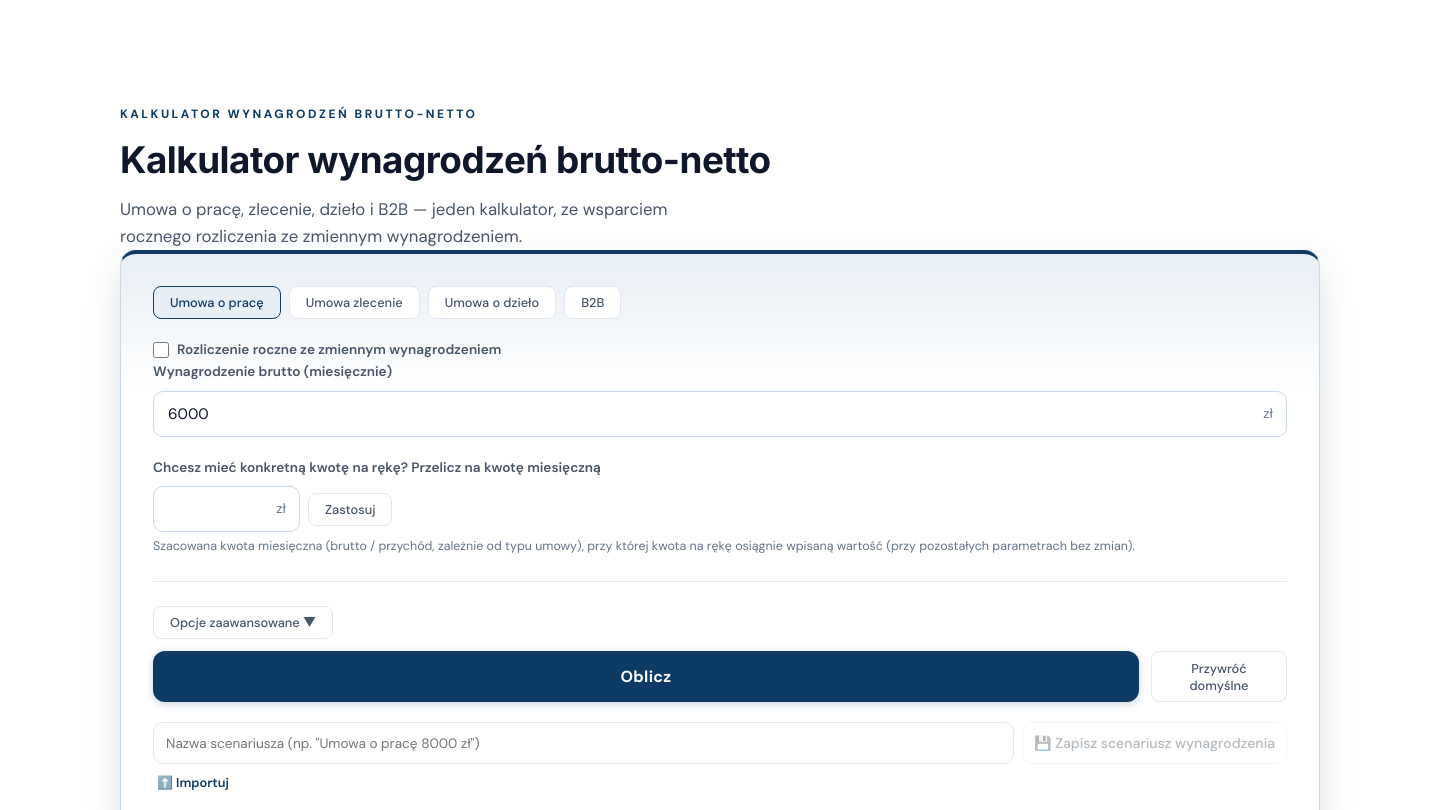
Test: SalaryCalculator hourly-rate helper (render) › the "Zastosuj" button stays disabled until both rate and hours are entered
Click the button "Umowa zlecenie".
click(354, 303)  # box [289, 286, 420, 319]
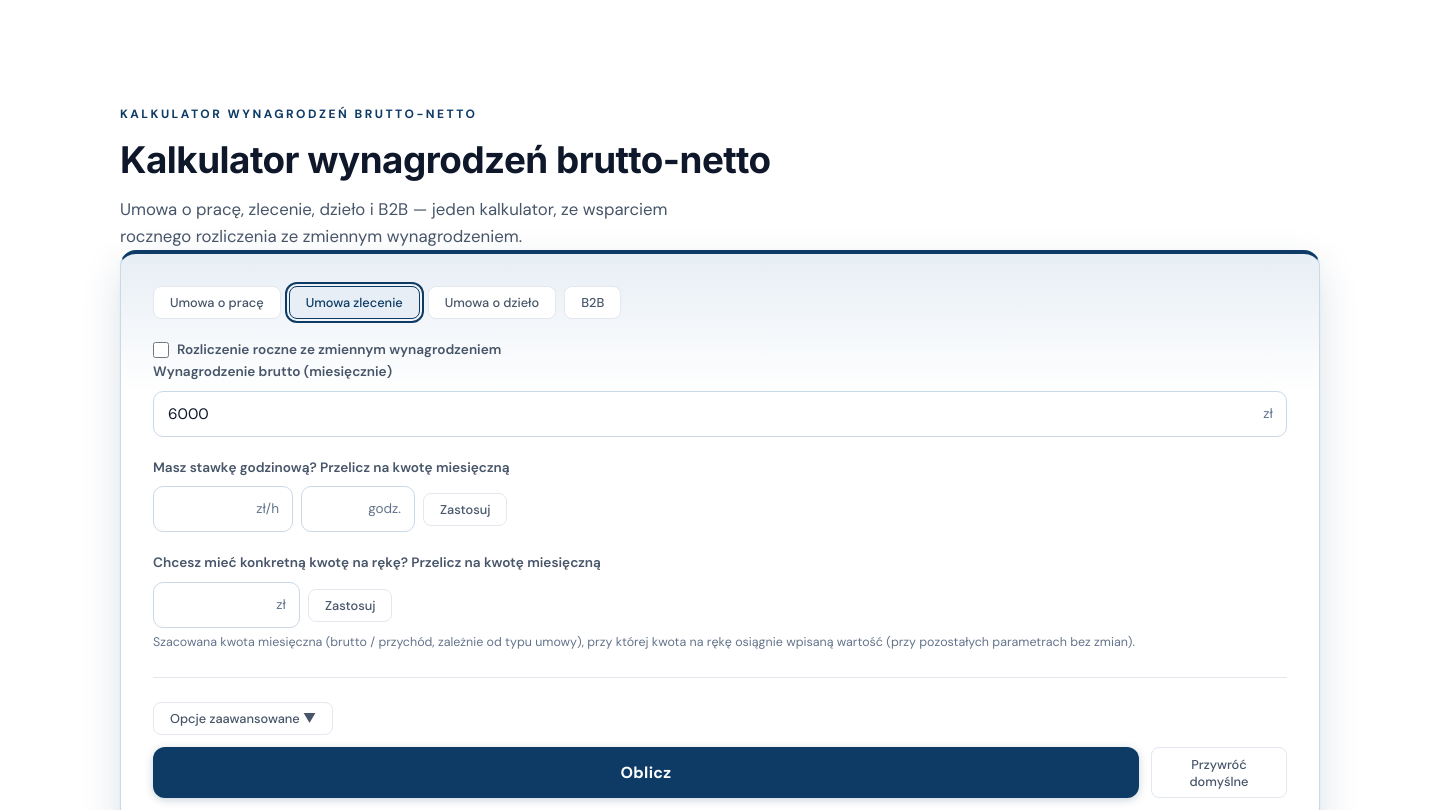
Expected: the button "Zastosuj" next to "godz." is disabled, [423, 493, 507, 526]
Type "50" into the number field named "stawka godzinowa".
click(223, 509); type("50")  # box [153, 486, 293, 532]
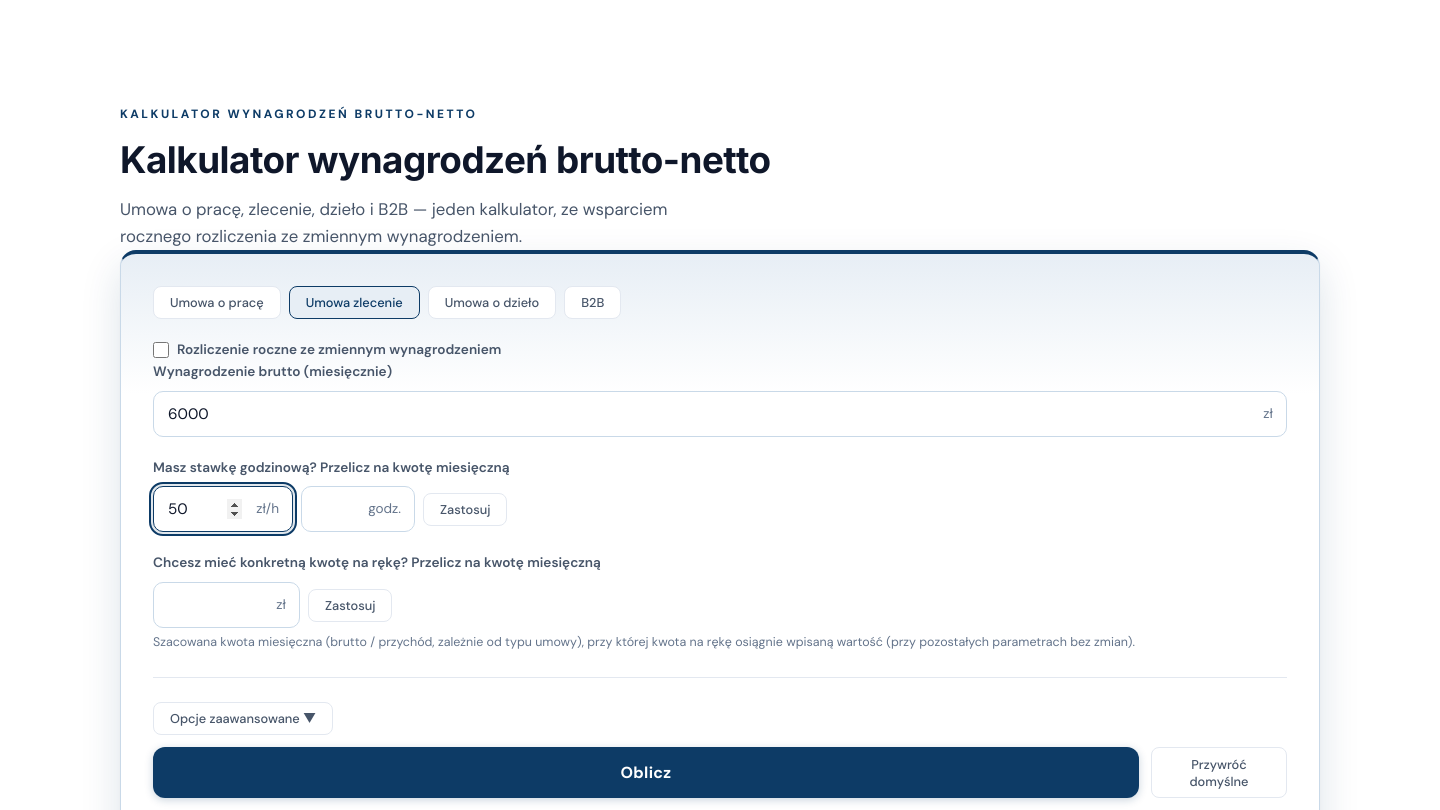
Expected: the button "Zastosuj" next to "godz." is disabled, [423, 493, 507, 526]
Type "160" into the number field named "liczba godzin".
click(358, 509); type("160")  # box [301, 486, 415, 532]
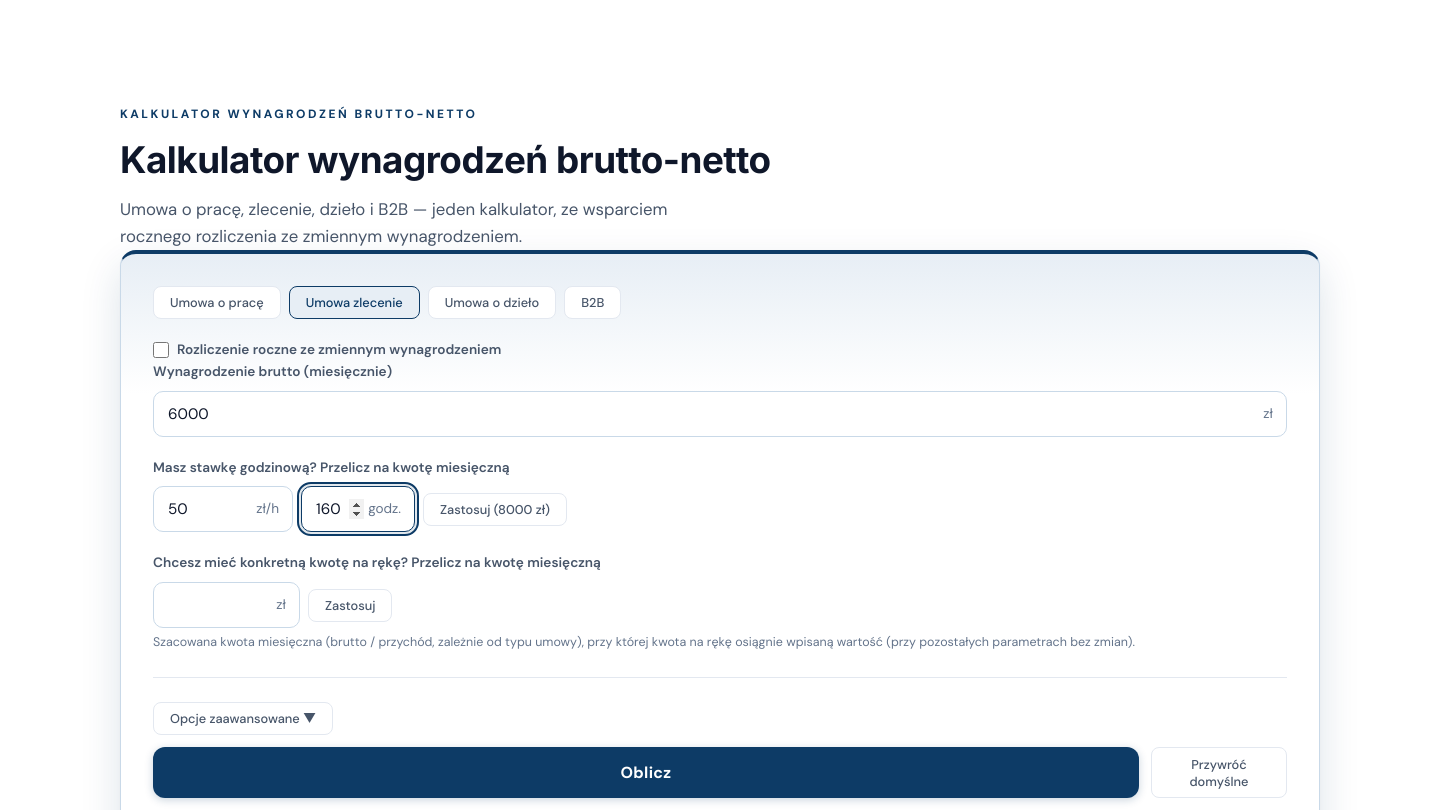
Expected: the button "Zastosuj (8000 zł)" is enabled, [423, 493, 567, 526]
